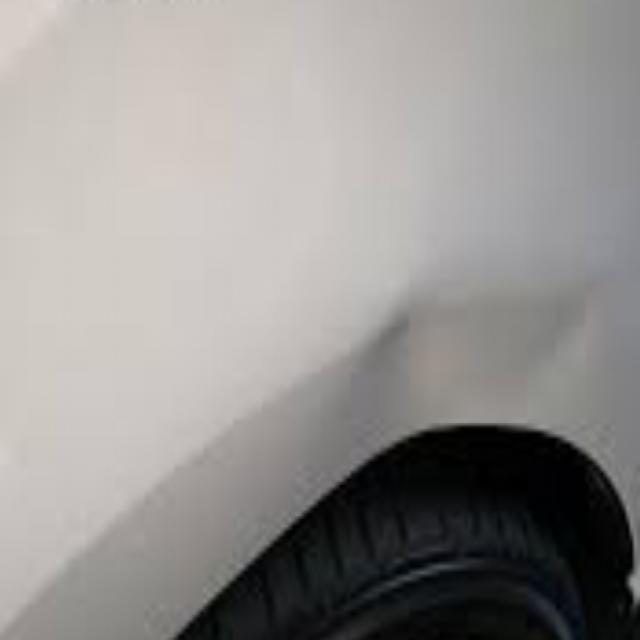dents: (341, 275, 465, 446), (522, 242, 624, 449)
